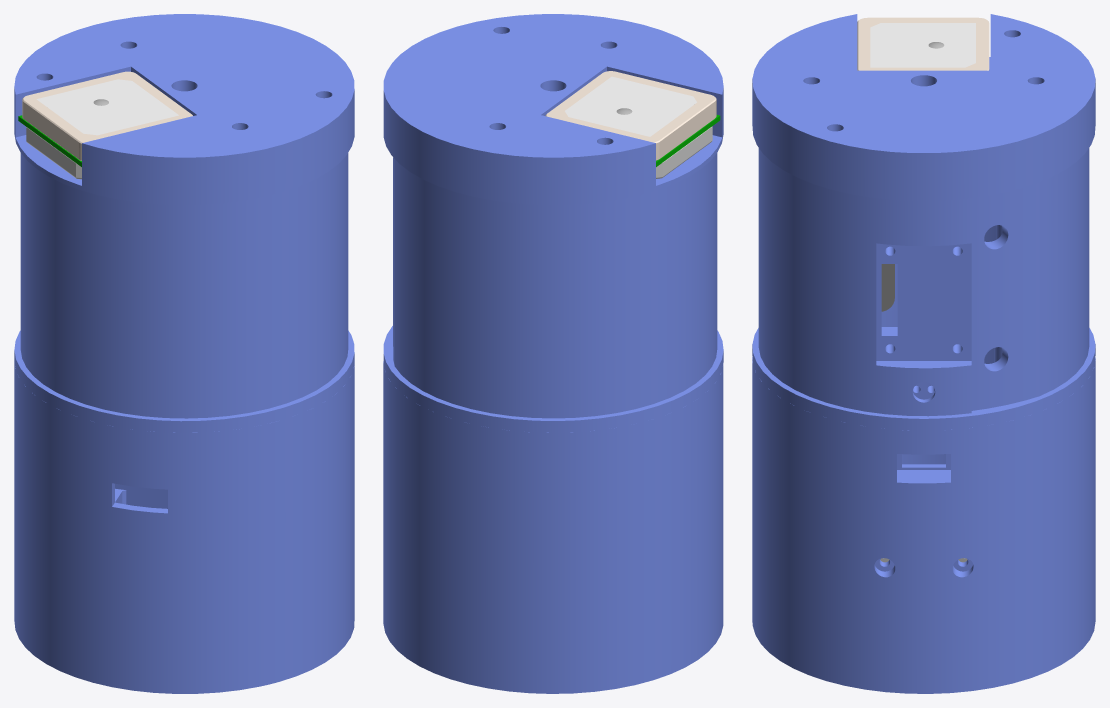
Rendered from CansatModel.fbx.
3 renders of one model, left to right at view 1: azimuth 30°, elevation 25°; view 2: azimuth 150°, elevation 25°; view 3: azimuth 270°, elevation 25°, orthographic.
Parts seen in each view (by area): view 1: Virsus-1, Apacia-1, GPS antena-1; view 2: Virsus-1, Apacia-1, GPS antena-1; view 3: Virsus-1, Apacia-1, GPS antena-1, Centras-1.
Boxes of the visible parts, x1,y1,x2,y2 form: Virsus-1: (14, 14, 354, 432); Apacia-1: (14, 363, 354, 693); GPS antena-1: (18, 71, 192, 179); Virsus-1: (383, 14, 723, 432); Apacia-1: (383, 361, 723, 693); GPS antena-1: (545, 71, 720, 178); Virsus-1: (752, 14, 1095, 430); Apacia-1: (752, 310, 1095, 693); GPS antena-1: (857, 17, 989, 70); Centras-1: (881, 264, 894, 311).
Bounding box in the file's own units: 6.5 × 11.3 × 6.5.
